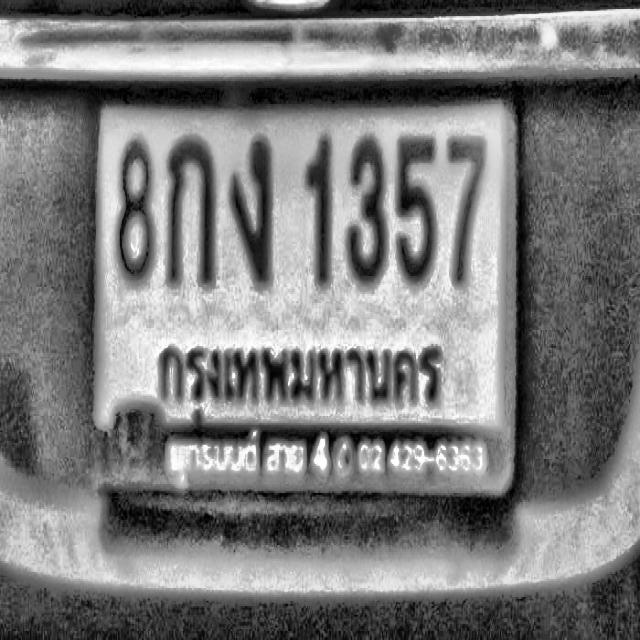license-plate: (84, 66, 528, 521)
